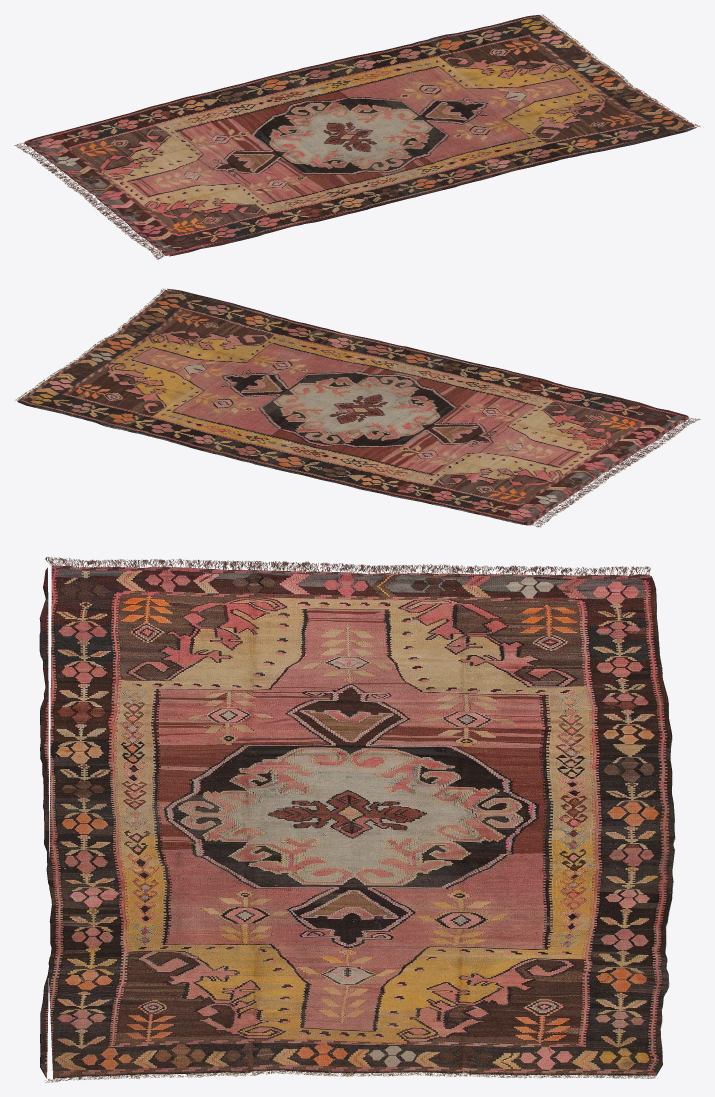
File: rug-D6Eyoccj.glb
3 renders of one model, top to bottom at view 1: azimuth 30°, elevation 25°; view 2: azimuth 150°, elevation 25°; view 3: azimuth 270°, elevation 25°, orthographic. The views are drawn at different scales.
Parts seen in each view (by area): view 1: Russian_Kilim_2, frange1_0, frange2_1; view 2: Russian_Kilim_2, frange1_0; view 3: Russian_Kilim_2, frange1_0, frange2_1.
Boxes of the visible parts, x1,y1,x2,y2 form: Russian_Kilim_2: (24,14,696,256); frange1_0: (14,143,165,259); frange2_1: (541,14,700,126); Russian_Kilim_2: (17,288,689,525); frange1_0: (530,418,700,527); Russian_Kilim_2: (39,565,675,1079); frange1_0: (45,557,650,575); frange2_1: (45,1069,657,1082).
Bounding box in the file's own units: 2.35 × 0.00919 × 1.2.
Materials: 3 (1 with a texture image).
